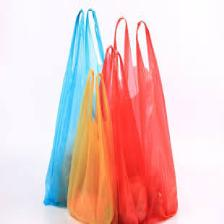plastic: (43, 9, 122, 209), (115, 17, 181, 220), (94, 47, 149, 224), (66, 70, 115, 224)
